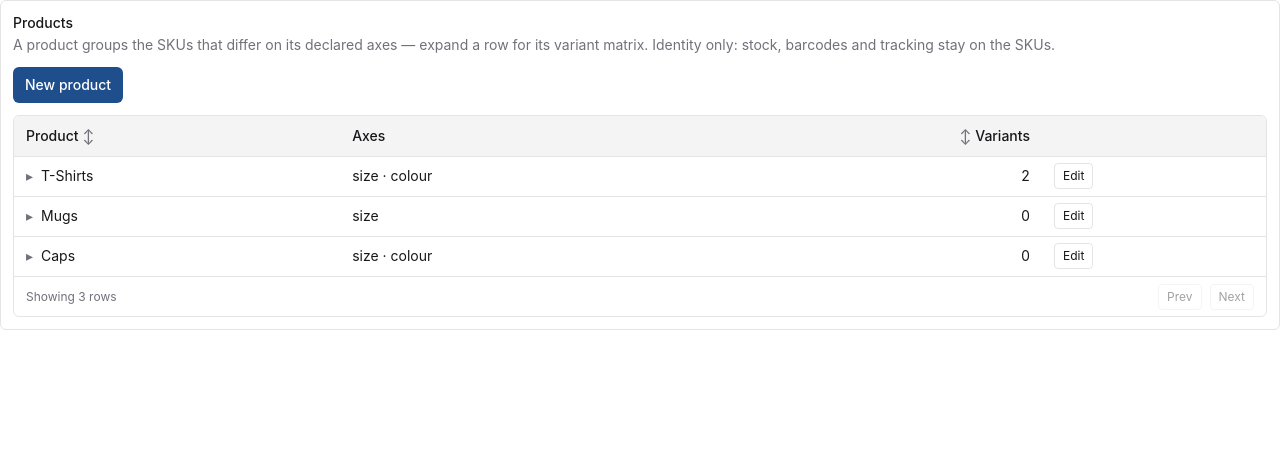
Test: ProductsCard: the variant matrix (story 11-6) › expanding a product shows its attached variants with their axis values
Click the button "▸ T-Shirts".
click(60, 176)  # box [26,166,94,186]
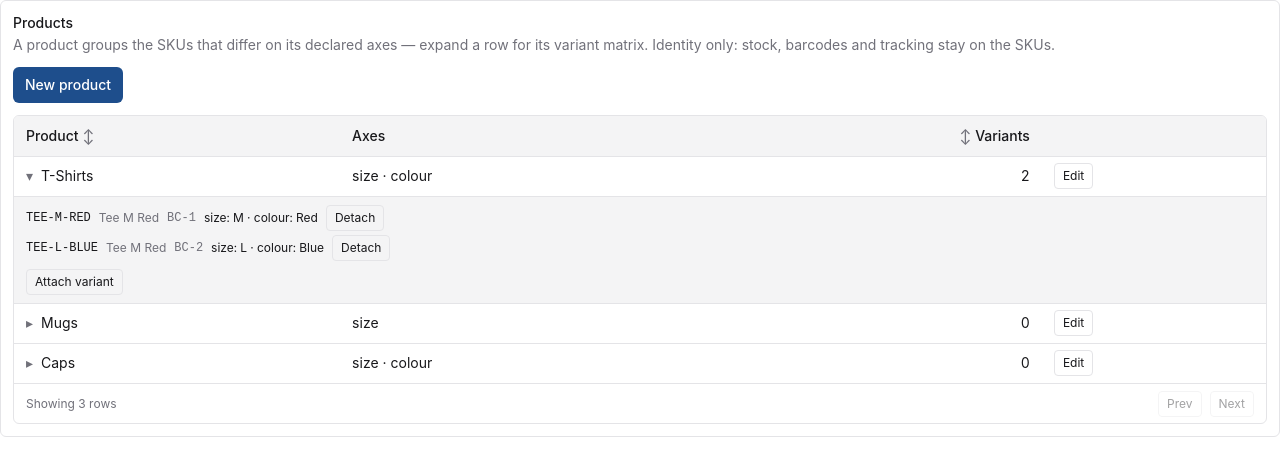
Expected: the element named "Variants for T-Shirts" is shown, [26,204,390,294]
Expected: the element named "Variants for T-Shirts" shows "TEE-M-RED", [26,210,91,224]
Expected: the element named "Variants for T-Shirts" shows "size: M · colour: Red", [204,210,318,224]
